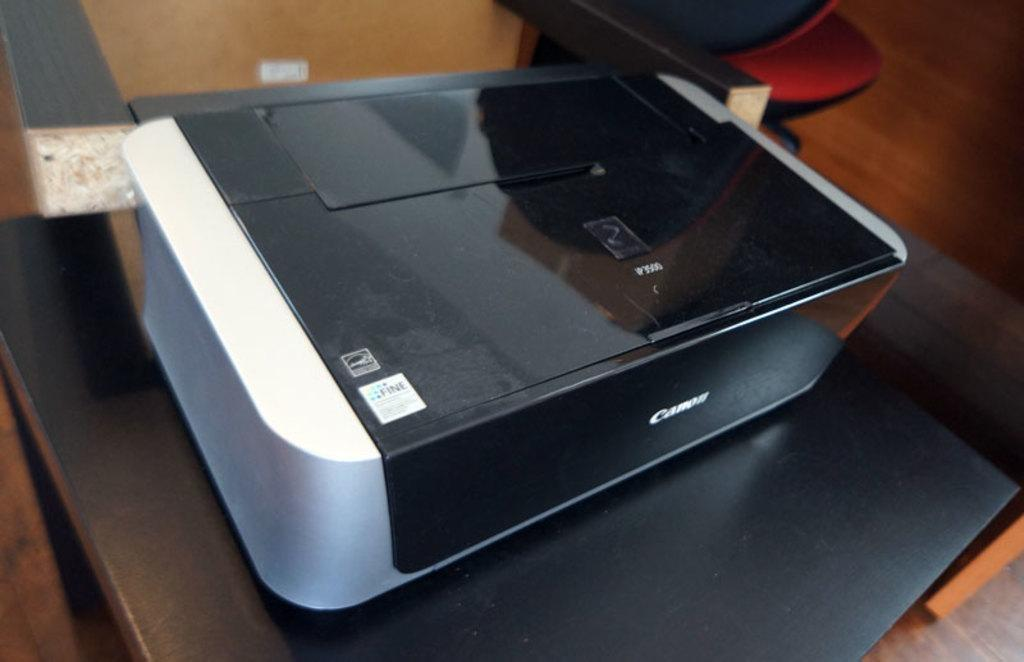Printer: (122, 72, 908, 612)
